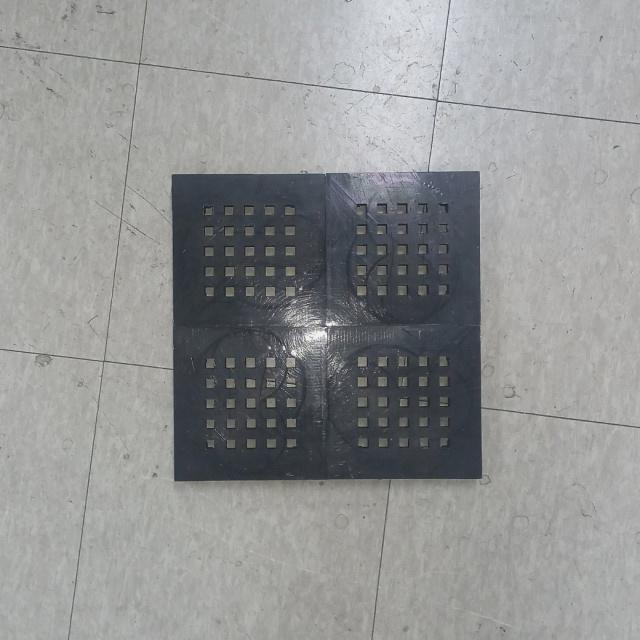pallet: (168, 166, 486, 485)
